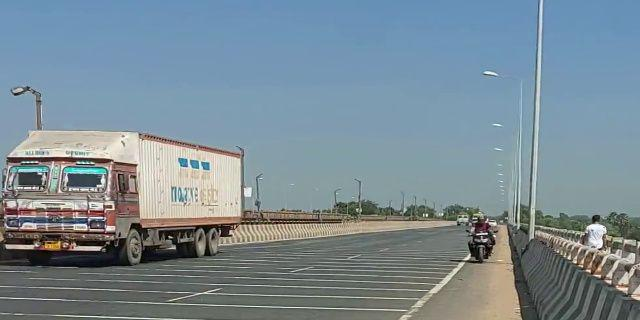Motorbike: (467, 211, 495, 264)
Truck: (3, 126, 246, 261)
